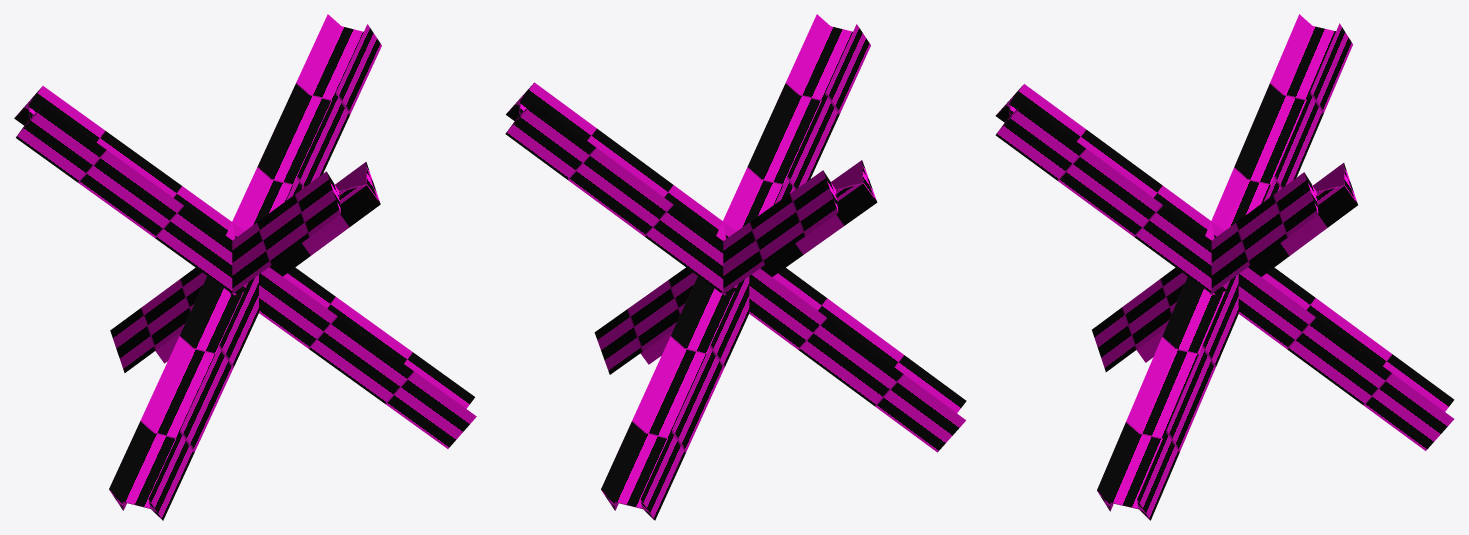
Rendered from anti_tank_mine.fbx.
3 renders of one model, left to right at view 1: azimuth 30°, elevation 25°; view 2: azimuth 150°, elevation 25°; view 3: azimuth 270°, elevation 25°, orthographic.
Visible parts, largest first — view 1: Cube.001; view 2: Cube.001; view 3: Cube.001.
Part boxes in pixels (<box>): Cube.001: <box>14,14,476,520</box>; Cube.001: <box>505,14,966,520</box>; Cube.001: <box>995,14,1454,520</box>.
Bounding box in the file's own units: 180 × 162 × 193.
1 material, 1 textured.
